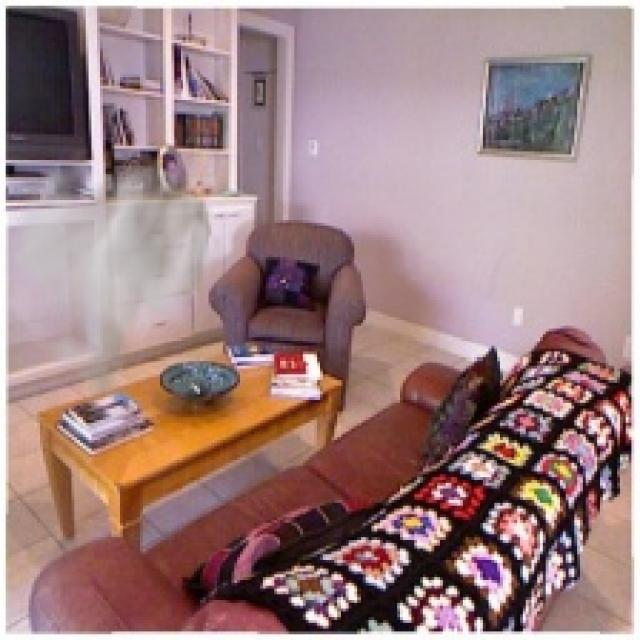Smoke: (0, 134, 232, 415)
